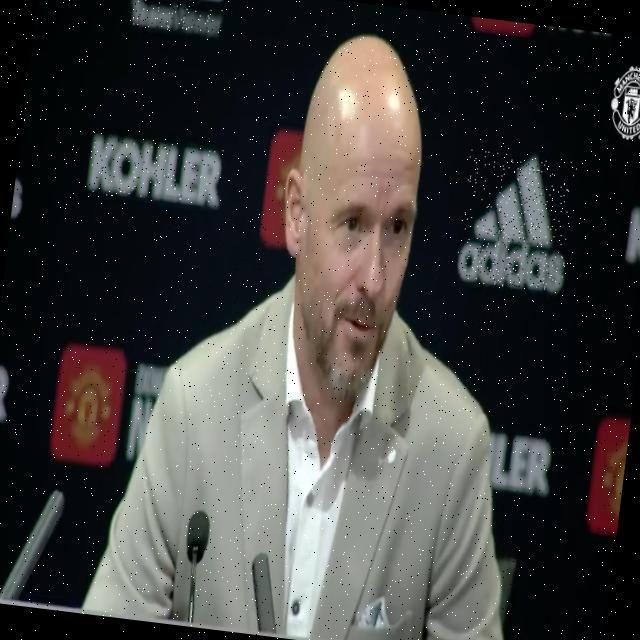Adidas: (454, 149, 577, 293)
Kohler: (86, 134, 224, 209)
TeamViewer: (128, 0, 226, 36)
